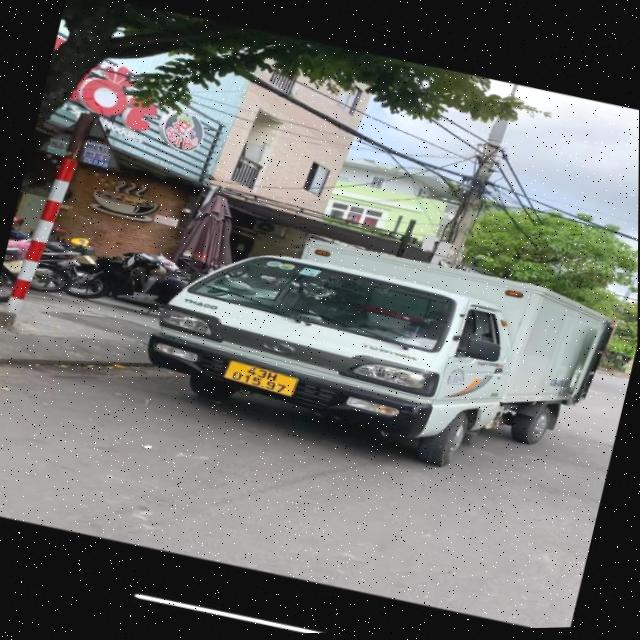car: (127, 196, 614, 506)
plate: (212, 349, 308, 409)
